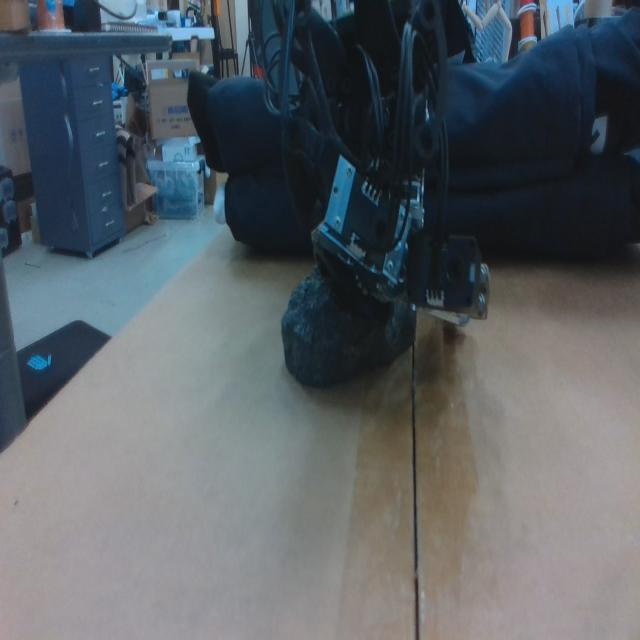stone: (280, 255, 416, 391)
